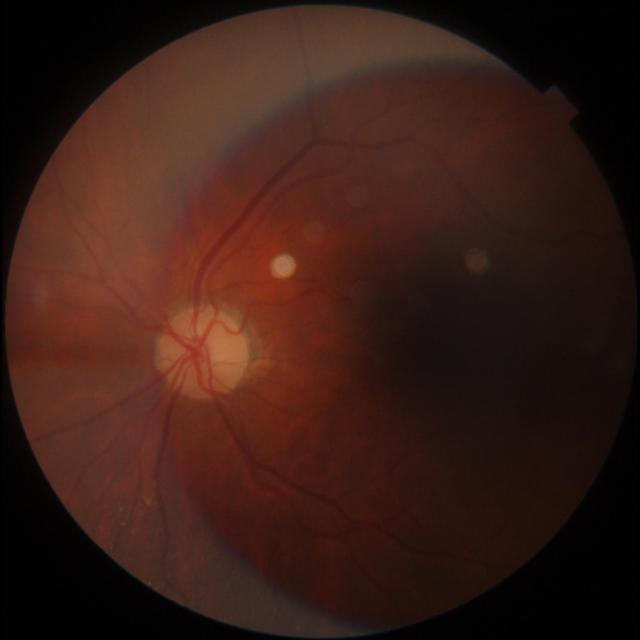OD: (159, 310, 249, 398)
